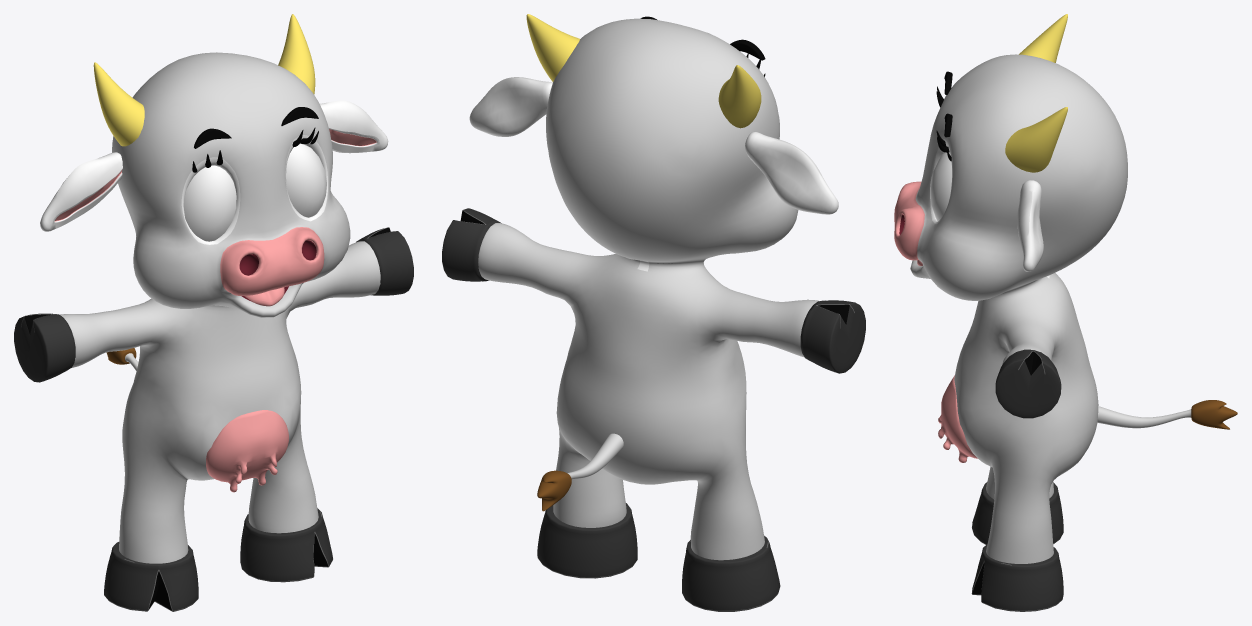
File: babycow.obj
3 views of the same model, side by side, from view 1: azimuth 30°, elevation 25°; view 2: azimuth 150°, elevation 25°; view 3: azimuth 270°, elevation 25° (orthographic). The views are drawn at different scales.
Visible parts, largest first — view 1: pesuña_Mesh.001, orejas_Mesh.005, eyes_2_Mesh.010, ubre_2_Mesh.002, horns_3_Mesh.009, Extrusión_Mesh.004; view 2: pesuña_Mesh.001, orejas_Mesh.005, horns_3_Mesh.009, Cubo_Mesh; view 3: pesuña_Mesh.001, horns_3_Mesh.009, Cubo_Mesh, orejas_Mesh.005, ubre_2_Mesh.002, eyes_2_Mesh.010.
Part boxes in pixels (left/top/right/bottom): pesuña_Mesh.001: left=14, top=52, right=413, bottom=611; orejas_Mesh.005: left=40, top=100, right=388, bottom=231; eyes_2_Mesh.010: left=183, top=144, right=326, bottom=241; ubre_2_Mesh.002: left=206, top=410, right=288, bottom=492; horns_3_Mesh.009: left=93, top=14, right=315, bottom=146; Extrusión_Mesh.004: left=194, top=107, right=318, bottom=148; pesuña_Mesh.001: left=442, top=18, right=865, bottom=611; orejas_Mesh.005: left=469, top=77, right=838, bottom=214; horns_3_Mesh.009: left=526, top=14, right=761, bottom=128; Cubo_Mesh: left=537, top=433, right=623, bottom=511; pesuña_Mesh.001: left=894, top=54, right=1127, bottom=611; horns_3_Mesh.009: left=1005, top=14, right=1067, bottom=172; Cubo_Mesh: left=1097, top=400, right=1237, bottom=429; orejas_Mesh.005: left=1017, top=180, right=1043, bottom=271; ubre_2_Mesh.002: left=938, top=375, right=977, bottom=462; eyes_2_Mesh.010: left=930, top=152, right=951, bottom=221.
Size of the model in its own units: 8.6 by 11.71 by 7.21.
